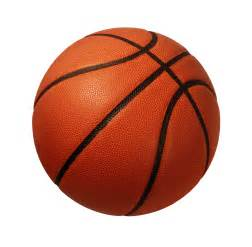basketball: (30, 27, 224, 217)
